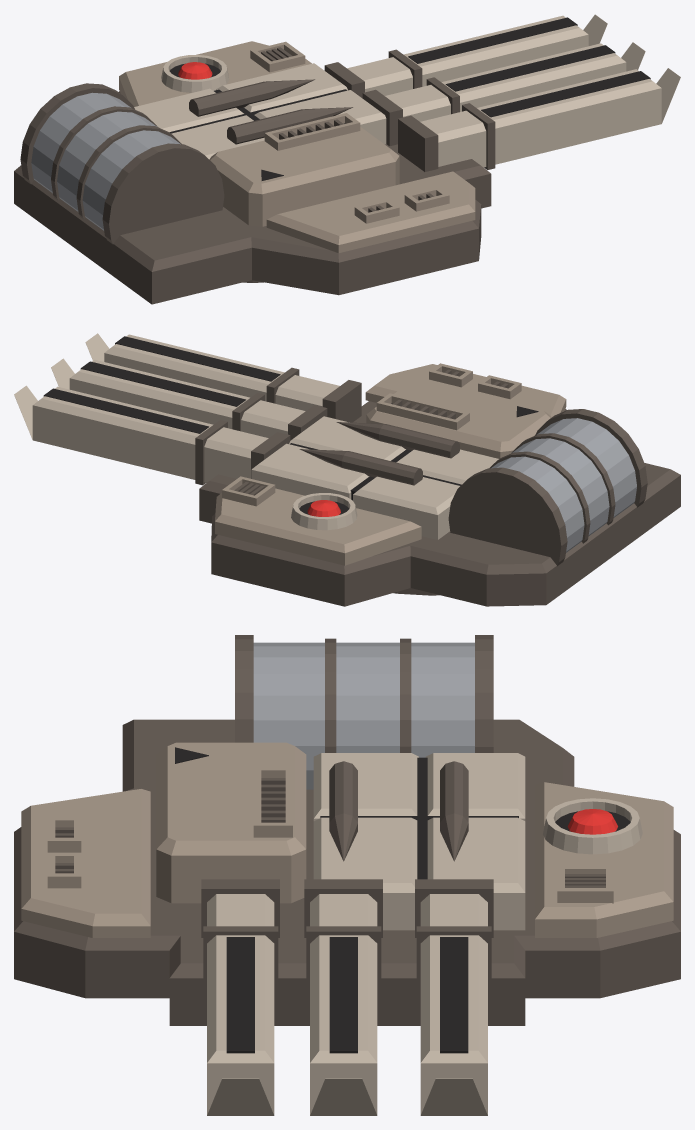
The model's file is vge_mgun_mass_driver.obj.
The picture shows the model from 3 angles, top to bottom: view 1: azimuth 30°, elevation 25°; view 2: azimuth 150°, elevation 25°; view 3: azimuth 270°, elevation 25°; orthographic projection. The views are drawn at different scales.
Parts seen in each view (by area): view 1: vge_mgun_mass_driver_1, vge_mgun_mass_driver_2, vge_mgun_mass_driver_57, vge_mgun_mass_driver_58, vge_mgun_mass_driver_74, vge_mgun_mass_driver_27, vge_mgun_mass_driver_42, vge_mgun_mass_driver_26, vge_mgun_mass_driver_63, vge_mgun_mass_driver_75, vge_mgun_mass_driver_69, vge_mgun_mass_driver_4 (+29 smaller); view 2: vge_mgun_mass_driver_1, vge_mgun_mass_driver_57, vge_mgun_mass_driver_2, vge_mgun_mass_driver_59, vge_mgun_mass_driver_62, vge_mgun_mass_driver_27, vge_mgun_mass_driver_4, vge_mgun_mass_driver_63, vge_mgun_mass_driver_69, vge_mgun_mass_driver_75, vge_mgun_mass_driver_25, vge_mgun_mass_driver_3 (+30 smaller); view 3: vge_mgun_mass_driver_2, vge_mgun_mass_driver_1, vge_mgun_mass_driver_57, vge_mgun_mass_driver_27, vge_mgun_mass_driver_42, vge_mgun_mass_driver_4, vge_mgun_mass_driver_63, vge_mgun_mass_driver_69, vge_mgun_mass_driver_75, vge_mgun_mass_driver_23, vge_mgun_mass_driver_25, vge_mgun_mass_driver_26 (+30 smaller).
Boxes of the visible parts, x1,y1,x2,y2 form: vge_mgun_mass_driver_1: (14, 171, 491, 304); vge_mgun_mass_driver_2: (14, 91, 490, 271); vge_mgun_mass_driver_57: (31, 92, 180, 230); vge_mgun_mass_driver_58: (102, 143, 224, 244); vge_mgun_mass_driver_74: (438, 88, 661, 167); vge_mgun_mass_driver_27: (209, 127, 399, 194); vge_mgun_mass_driver_42: (267, 171, 475, 244); vge_mgun_mass_driver_26: (218, 156, 399, 226); vge_mgun_mass_driver_63: (347, 15, 588, 88); vge_mgun_mass_driver_75: (420, 69, 661, 142); vge_mgun_mass_driver_69: (385, 43, 625, 116); vge_mgun_mass_driver_4: (119, 41, 311, 106); vge_mgun_mass_driver_1: (199, 475, 680, 606); vge_mgun_mass_driver_57: (491, 418, 636, 552); vge_mgun_mass_driver_2: (199, 401, 680, 574); vge_mgun_mass_driver_59: (448, 467, 567, 566); vge_mgun_mass_driver_62: (32, 405, 250, 482); vge_mgun_mass_driver_27: (366, 380, 551, 451); vge_mgun_mass_driver_4: (215, 488, 421, 553); vge_mgun_mass_driver_63: (33, 386, 268, 458); vge_mgun_mass_driver_69: (70, 359, 305, 431); vge_mgun_mass_driver_75: (104, 334, 339, 406); vge_mgun_mass_driver_25: (252, 443, 369, 493); vge_mgun_mass_driver_3: (215, 521, 421, 565); vge_mgun_mass_driver_2: (14, 719, 680, 978); vge_mgun_mass_driver_1: (14, 931, 680, 1025); vge_mgun_mass_driver_57: (253, 642, 474, 789); vge_mgun_mass_driver_27: (156, 742, 306, 855); vge_mgun_mass_driver_42: (21, 789, 150, 926); vge_mgun_mass_driver_4: (535, 782, 673, 919); vge_mgun_mass_driver_63: (420, 894, 487, 1063); vge_mgun_mass_driver_69: (310, 894, 377, 1063); vge_mgun_mass_driver_75: (207, 894, 274, 1063); vge_mgun_mass_driver_23: (313, 817, 417, 892); vge_mgun_mass_driver_25: (427, 817, 525, 892); vge_mgun_mass_driver_26: (156, 849, 306, 903).
Bounding box in the file's own units: 5.11 × 1.13 × 3.56.
